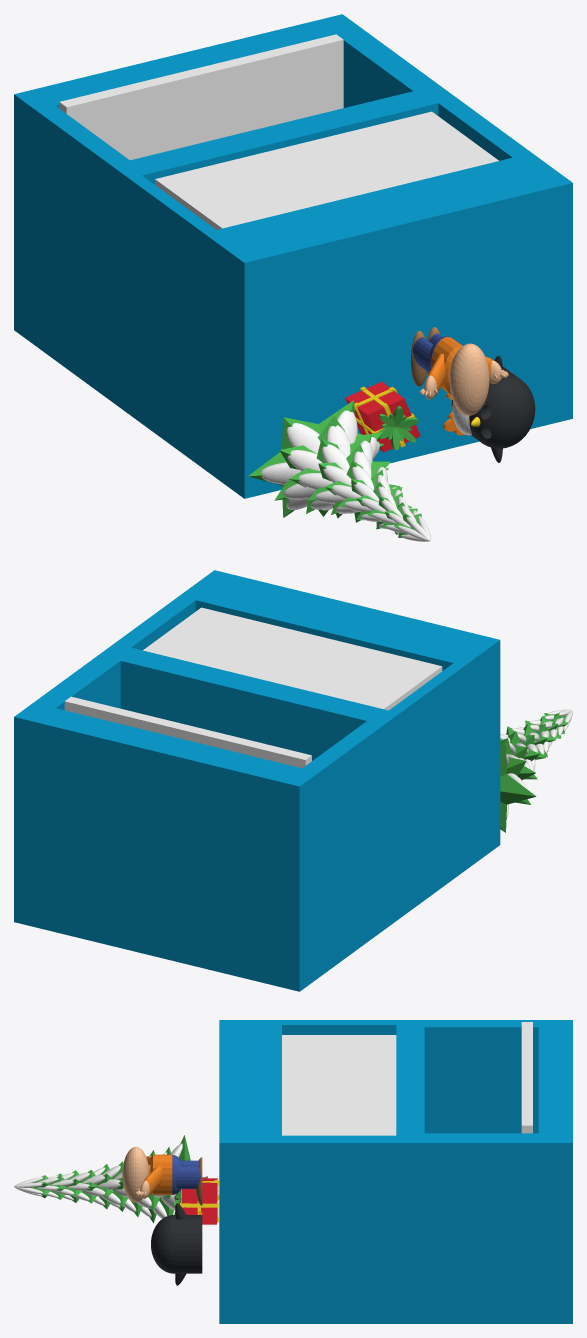
The model's file is tinker.obj.
3 views of the same model, one above another, from view 1: azimuth 30°, elevation 25°; view 2: azimuth 150°, elevation 25°; view 3: azimuth 270°, elevation 25° (orthographic). The views are drawn at different scales.
Parts seen in each view (by area): view 1: group_0_40919, group_0_16448250, group_0_4634441, group_0_2829873, group_0_16500122, group_0_15277357, group_0_16089887, group_0_16768282, group_0_3888547; view 2: group_0_40919, group_0_16448250, group_0_4634441; view 3: group_0_40919, group_0_16448250, group_0_2829873, group_0_4634441, group_0_16500122, group_0_16089887, group_0_15277357, group_0_3888547.
Part boxes in pixels (left/top/right/bottom): group_0_40919: left=14, top=14, right=572, bottom=498; group_0_16448250: left=59, top=34, right=498, bottom=541; group_0_4634441: left=248, top=400, right=421, bottom=537; group_0_2829873: left=451, top=355, right=535, bottom=462; group_0_16500122: left=420, top=343, right=508, bottom=415; group_0_15277357: left=345, top=381, right=420, bottom=452; group_0_16089887: left=426, top=337, right=492, bottom=435; group_0_16768282: left=354, top=386, right=480, bottom=447; group_0_3888547: left=413, top=333, right=453, bottom=372; group_0_40919: left=14, top=570, right=500, bottom=991; group_0_16448250: left=64, top=607, right=572, bottom=818; group_0_4634441: left=500, top=713, right=567, bottom=832; group_0_40919: left=219, top=1020, right=572, bottom=1323; group_0_16448250: left=14, top=1022, right=532, bottom=1218; group_0_2829873: left=151, top=1203, right=202, bottom=1285; group_0_4634441: left=30, top=1135, right=190, bottom=1222; group_0_16500122: left=122, top=1147, right=149, bottom=1202; group_0_16089887: left=144, top=1154, right=202, bottom=1214; group_0_15277357: left=181, top=1178, right=217, bottom=1224; group_0_3888547: left=172, top=1155, right=200, bottom=1194.
Bounding box in the file's own units: 54 × 42 × 98.
